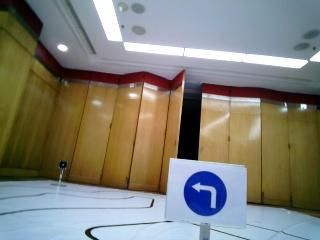left: (171, 159, 237, 223)
